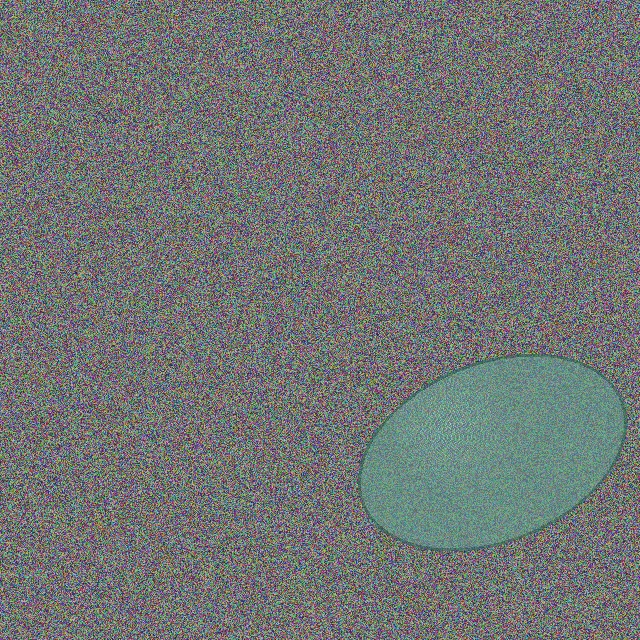lens: (359, 355, 625, 549)
